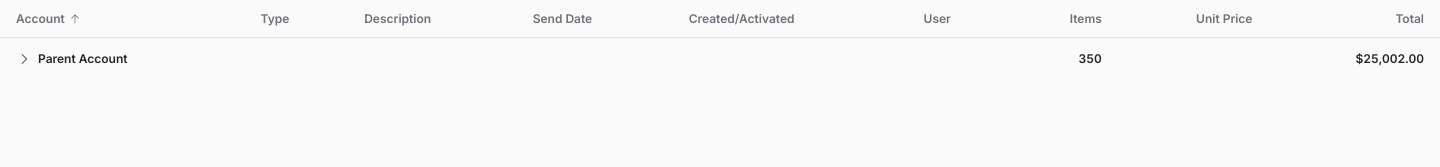
Test: BillingTreeTable › expand/collapse toggling › clicking a parent row expands to show children and line items
// Click parent to expand
What coordinates should you click on to do the following:
click the text "Parent Account"
I would click on:
 (72, 59)
Its box is x1=17 y1=51 x2=128 y2=66.
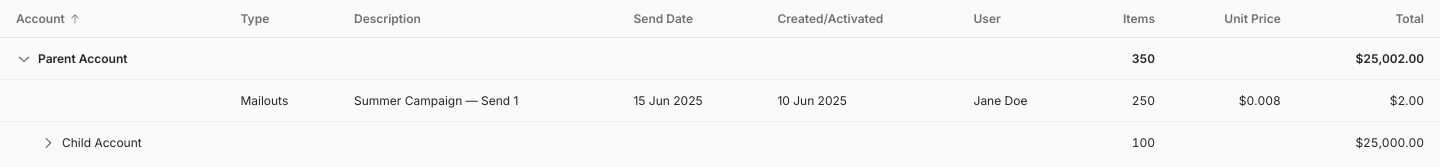
Now the text "Child Account" is shown, box x1=41 y1=135 x2=142 y2=150
Now the text "Summer Campaign — Send 1" is shown, box x1=338 y1=80 x2=618 y2=122
